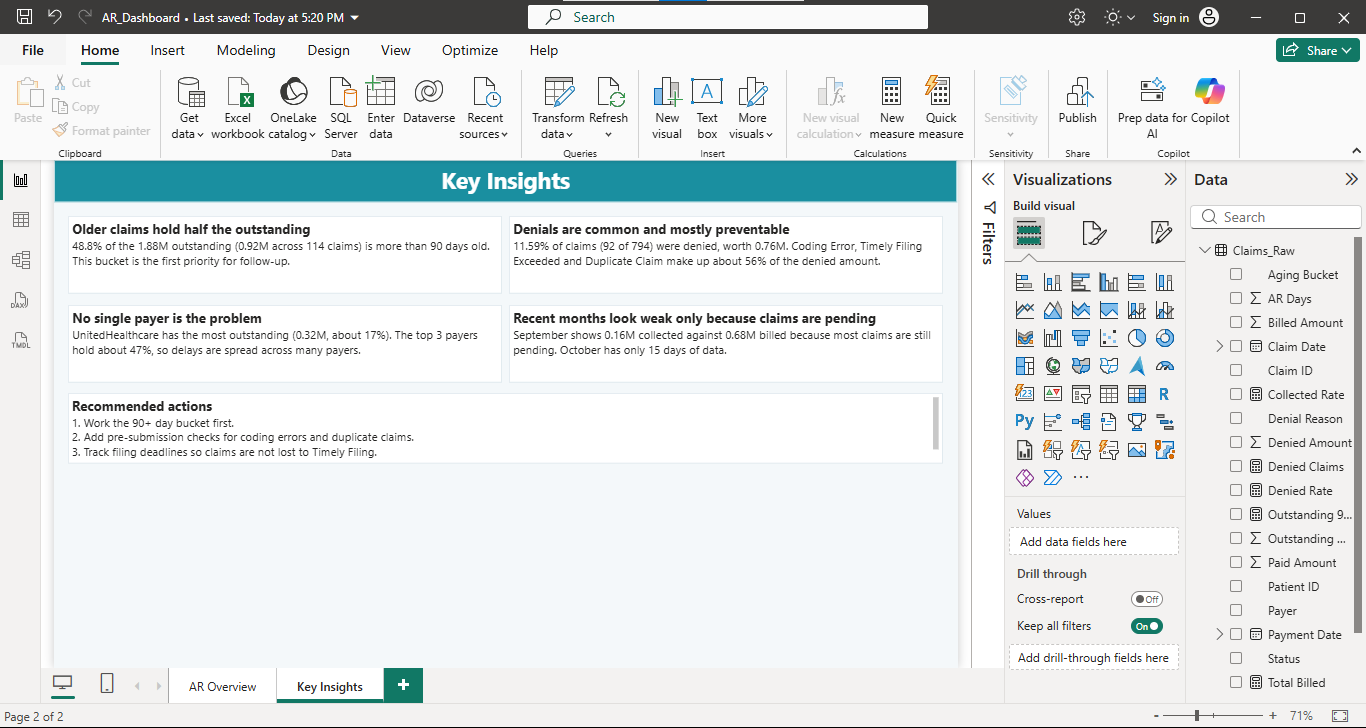

The dashboard page shown, as its layout file describes it:
{"tool":"powerbi","page":{"name":"Key Insights","canvas":[1280,720],"ordinal":1},"visuals":[{"type":"textbox","box":[0,0,1280.2,60],"z":0},{"type":"textbox","box":[20,80,615,110],"z":1},{"type":"textbox","box":[20,330,1240,100],"z":2},{"type":"textbox","box":[645,80,615,110],"z":3},{"type":"textbox","box":[20,205,615,110],"z":4},{"type":"textbox","box":[645,205,615,110],"z":5}]}

Visuals, with their boxes on the page's 1280x720 design canvas (x1, y1, x2, y2). These are canvas units, not pixel positions in the 1366x728 screenshot, which may show the page scaled, cropped or inside an application window:
textbox: [left=0, top=0, right=1280, bottom=60]
textbox: [left=20, top=80, right=635, bottom=190]
textbox: [left=20, top=330, right=1260, bottom=430]
textbox: [left=645, top=80, right=1260, bottom=190]
textbox: [left=20, top=205, right=635, bottom=315]
textbox: [left=645, top=205, right=1260, bottom=315]
